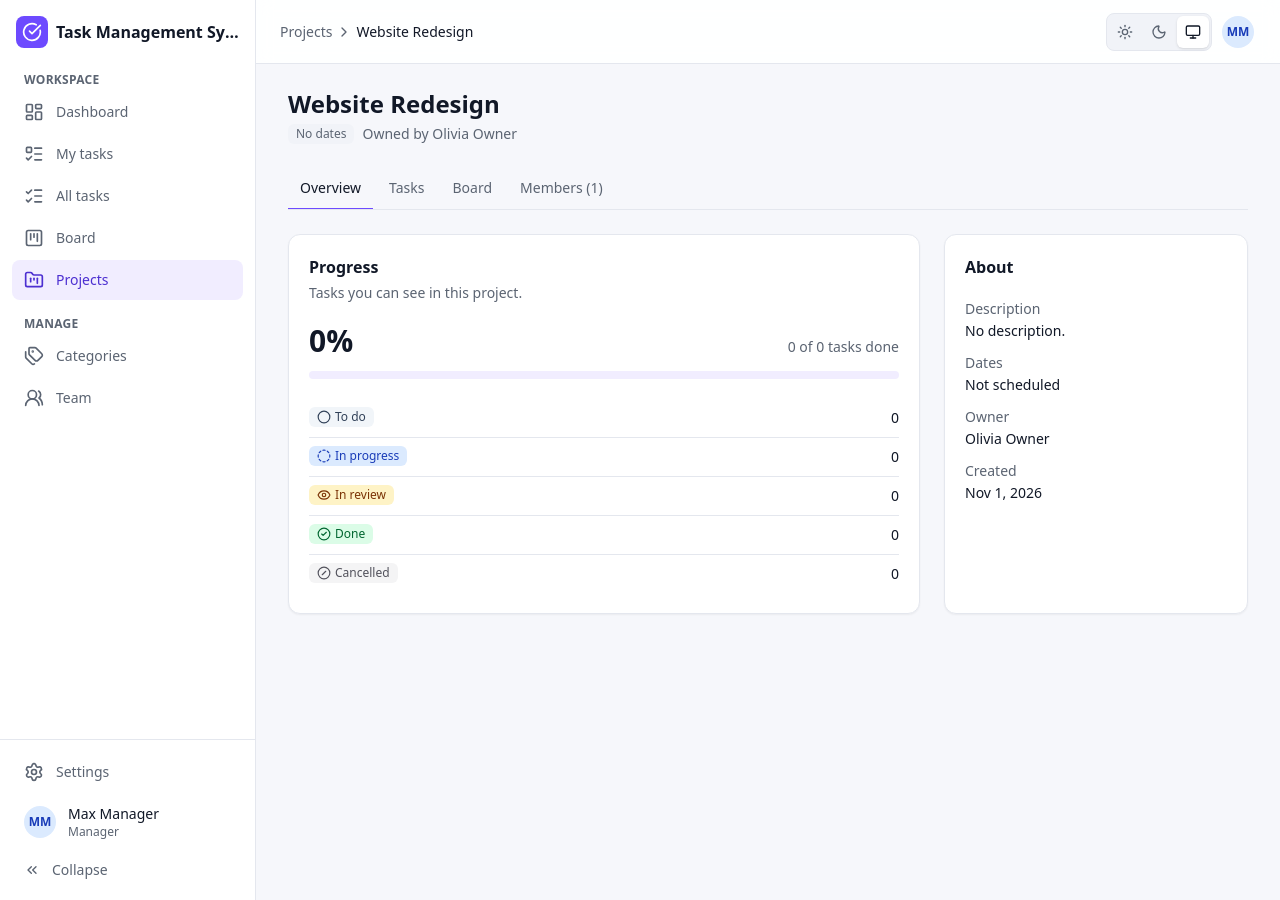
Test case: Layout › project tabs are links with the current one marked
Click the link "Members (1)" at (561, 188), box [520,178,603,197]
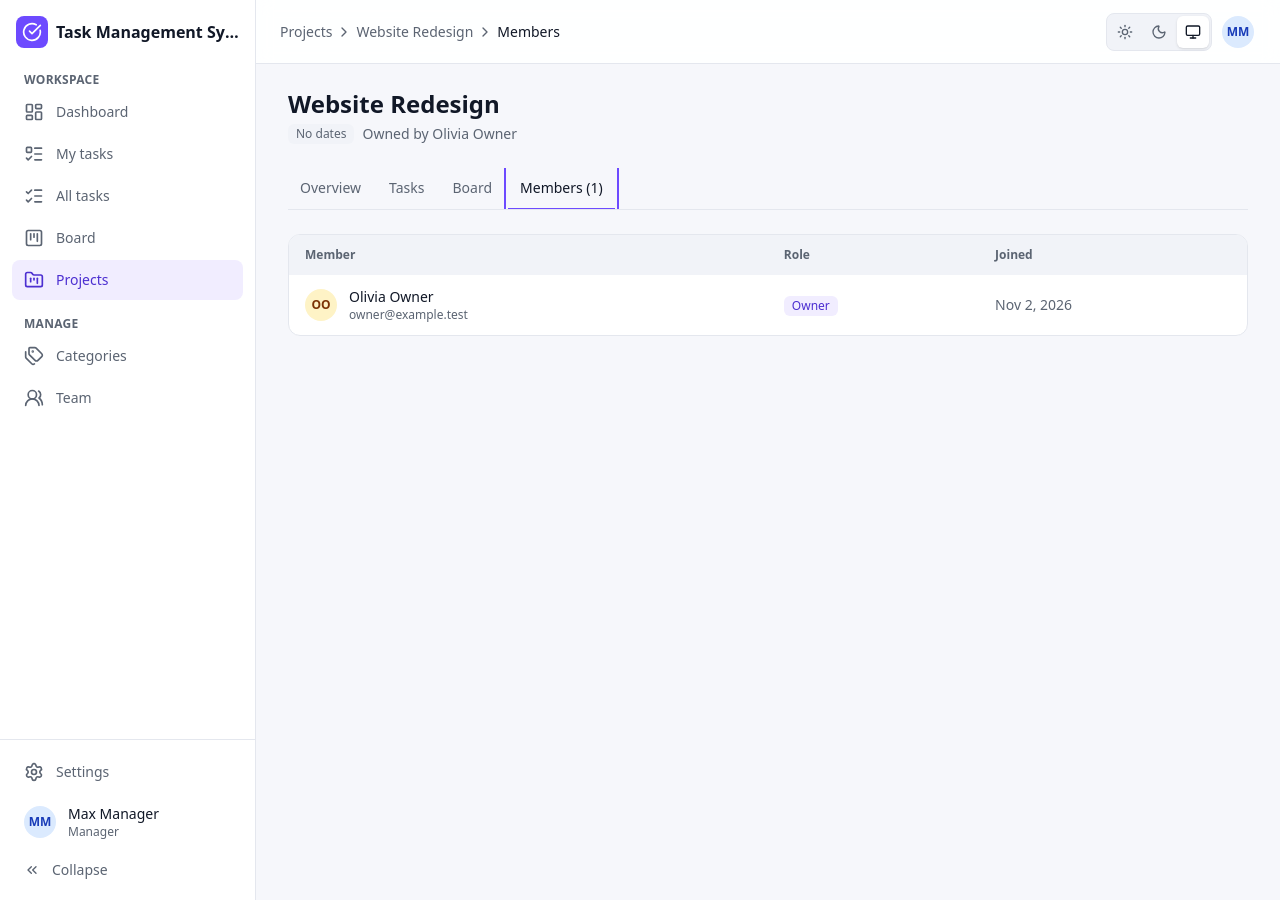
expect the table named "Members of Website Redesign" is shown: met, box [289,235,1247,335]
